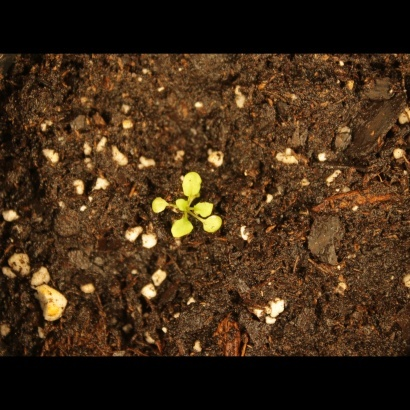leaf: (181, 166, 204, 200), (170, 216, 195, 241), (147, 195, 170, 218), (171, 195, 194, 218), (192, 196, 215, 219), (202, 213, 225, 236)
